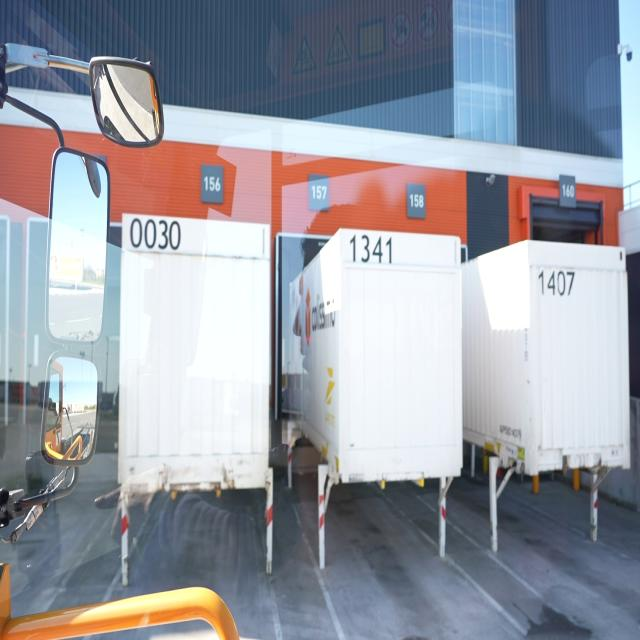Code: (129, 212, 183, 260), (345, 228, 398, 273), (536, 263, 581, 303)
